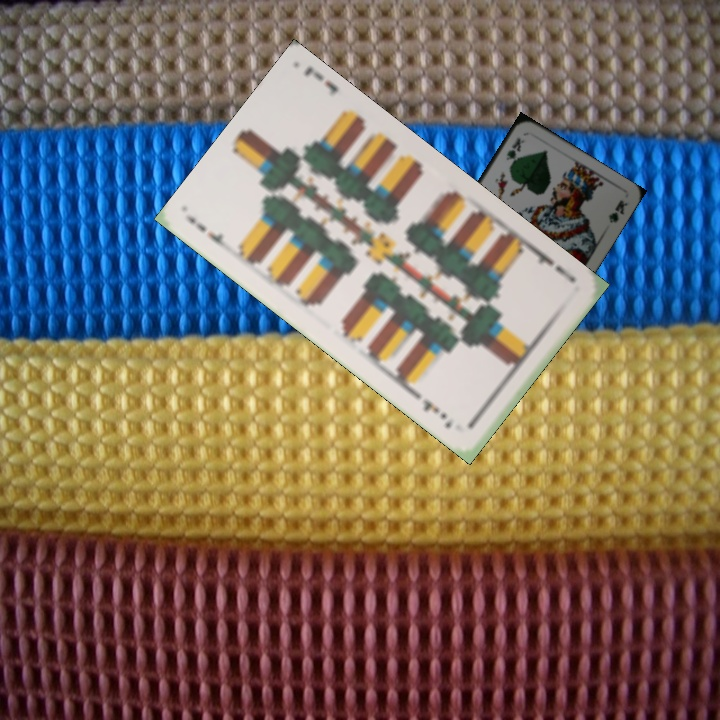E7: (528, 244, 579, 286), (185, 213, 234, 256)
GK: (502, 134, 527, 170)
